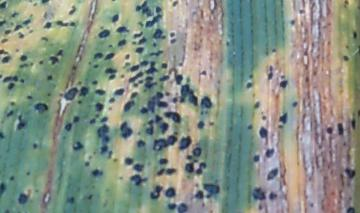tarspot: (141, 92, 169, 113), (180, 86, 198, 106), (153, 137, 176, 151), (135, 2, 154, 18), (203, 182, 219, 199), (164, 110, 181, 124), (169, 68, 183, 84), (119, 122, 132, 139), (253, 186, 268, 200), (63, 88, 78, 101), (146, 16, 162, 28), (129, 174, 146, 185), (144, 75, 157, 89), (150, 184, 162, 199), (266, 168, 279, 181), (146, 60, 158, 74), (179, 137, 192, 149), (34, 103, 48, 114), (16, 115, 25, 131), (145, 119, 154, 135), (344, 166, 356, 178), (97, 124, 110, 135), (153, 28, 166, 39), (201, 96, 212, 109), (72, 140, 83, 152), (18, 193, 29, 205), (98, 28, 111, 38), (127, 72, 143, 80), (196, 162, 206, 174), (267, 64, 274, 81), (159, 122, 168, 135), (123, 101, 133, 112), (192, 147, 203, 157), (185, 162, 195, 173), (177, 203, 188, 213), (165, 188, 176, 198), (123, 157, 134, 167), (259, 126, 268, 138), (133, 163, 145, 172), (337, 120, 344, 135), (79, 86, 89, 96), (279, 113, 288, 124), (265, 147, 274, 158), (193, 191, 204, 200), (113, 88, 125, 96), (116, 26, 129, 33), (1, 55, 11, 64), (48, 56, 58, 65), (3, 76, 18, 82), (91, 168, 102, 176), (56, 20, 68, 27), (94, 88, 106, 95), (149, 50, 163, 56), (138, 139, 147, 148), (64, 122, 72, 132), (99, 145, 107, 155), (100, 136, 110, 144), (95, 102, 103, 112), (154, 113, 162, 123), (279, 80, 289, 88), (167, 202, 177, 210), (159, 75, 170, 82), (56, 48, 64, 57), (111, 14, 119, 23), (105, 52, 114, 60), (167, 167, 176, 175), (269, 192, 278, 200), (66, 196, 75, 204), (130, 64, 140, 71), (159, 158, 169, 165), (104, 68, 117, 73), (1, 182, 6, 195), (15, 24, 23, 32), (7, 82, 15, 90), (6, 110, 14, 118), (138, 37, 146, 45), (72, 115, 80, 123), (130, 92, 138, 100), (137, 20, 145, 28), (197, 121, 205, 129), (157, 168, 165, 176), (69, 6, 76, 15), (94, 52, 103, 59), (135, 46, 144, 53), (253, 153, 260, 162), (139, 60, 149, 66), (351, 118, 356, 130), (346, 207, 356, 213), (1, 49, 9, 56), (46, 74, 54, 81), (200, 70, 208, 77), (352, 31, 359, 39), (326, 126, 333, 134), (22, 19, 31, 25), (40, 37, 49, 43), (117, 40, 126, 46), (134, 32, 143, 38), (1, 37, 8, 44), (108, 73, 115, 80), (208, 120, 215, 127), (187, 153, 194, 160), (289, 19, 296, 26), (343, 43, 350, 50), (1, 1, 7, 9), (20, 63, 28, 69), (100, 117, 108, 123), (123, 63, 131, 69), (254, 100, 260, 108), (245, 82, 253, 88), (343, 54, 349, 62), (225, 40, 231, 48), (309, 200, 315, 208), (43, 11, 48, 20), (45, 23, 52, 29), (12, 12, 18, 19), (1, 20, 7, 27), (18, 32, 24, 39), (9, 100, 16, 106), (91, 79, 98, 85), (109, 97, 115, 104), (161, 62, 167, 69), (172, 97, 178, 104), (247, 123, 253, 130), (33, 142, 38, 150), (21, 55, 27, 61), (133, 82, 139, 88), (170, 32, 176, 38), (156, 6, 162, 12), (280, 74, 286, 80), (298, 9, 304, 15), (292, 101, 298, 107), (108, 150, 112, 159), (107, 105, 113, 111), (26, 95, 33, 100), (93, 64, 100, 69), (90, 119, 97, 124), (249, 72, 254, 79), (8, 175, 15, 180), (70, 22, 76, 27), (5, 30, 11, 35), (28, 29, 34, 34), (120, 73, 125, 79), (152, 42, 157, 48), (170, 39, 176, 44), (344, 1, 349, 7), (278, 124, 284, 129), (173, 131, 179, 136), (88, 195, 93, 201), (25, 171, 31, 176), (113, 157, 118, 163), (1, 132, 5, 139), (39, 60, 44, 65), (20, 79, 25, 84), (33, 3, 38, 8), (47, 93, 52, 98), (10, 21, 15, 26), (29, 13, 34, 18), (78, 100, 83, 105), (85, 161, 90, 166), (125, 54, 130, 59), (173, 1, 178, 6), (178, 62, 183, 67), (271, 48, 276, 53), (262, 116, 267, 121), (137, 131, 142, 136), (42, 1, 50, 4), (138, 80, 144, 84), (200, 110, 204, 116), (259, 205, 263, 211), (4, 209, 10, 213), (15, 48, 20, 52), (109, 44, 113, 49), (132, 41, 137, 45), (118, 176, 123, 180), (88, 155, 92, 160), (358, 109, 360, 118), (111, 1, 117, 4), (30, 62, 34, 66), (78, 81, 82, 84), (166, 93, 170, 96), (1, 74, 3, 79)
